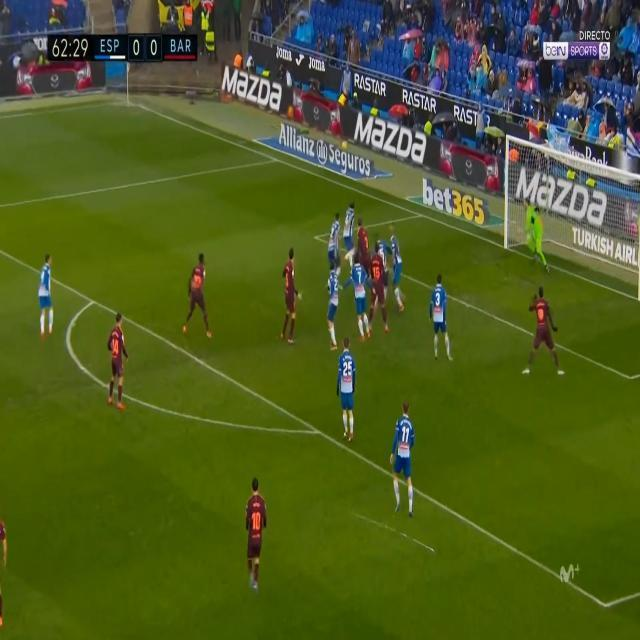ball: (339, 139, 349, 156)
goalkeeper: (516, 192, 553, 277)
player: (385, 394, 427, 529), (522, 279, 566, 383), (238, 468, 271, 593), (28, 240, 63, 357), (332, 334, 368, 445), (174, 246, 215, 336), (97, 299, 128, 409), (423, 265, 456, 363), (278, 243, 308, 347), (366, 242, 396, 333), (319, 259, 346, 355), (340, 201, 362, 277)
